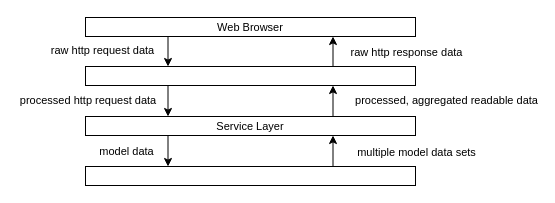
Some shapes in this 555 by 203 pixel diagram are drawn without their labels. Each missing label, with the centre of its shape:
"Controller Layer" goes at (x=250, y=76).
"Module Layer" goes at (x=250, y=176).
